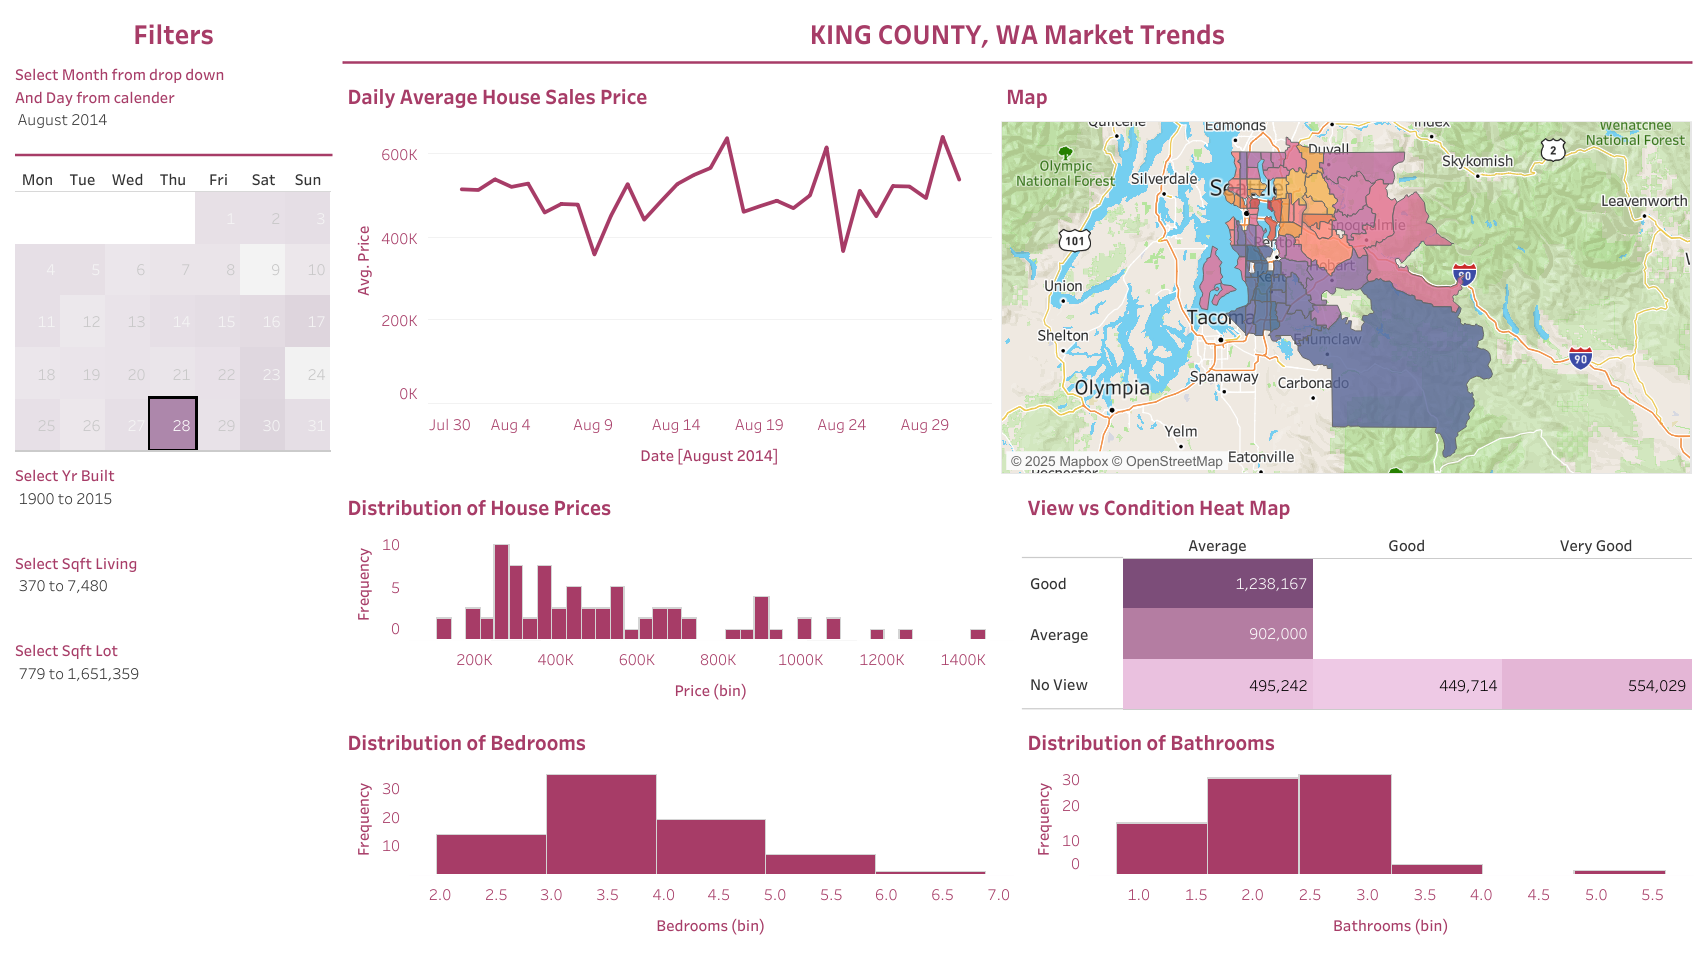

The page's visual inventory and layout, read from the dashboard file:
{"tool":"tableau","page":{"name":"KING County Sales","canvas":[1000,1000],"units":"permille","ordinal":0},"visuals":[{"type":"text","box":[4.8,10,192.5,56.2]},{"type":"text","box":[197.3,10,797.8,56.2]},{"type":"filter","title":"Calender","param":"[federated.0v26u7e0zxfn2i1db6jkp0sjat7w].[my:date:ok]","box":[4.8,66.2,192.5,102.4]},{"type":"blank","box":[197.3,66.2,797.8,12.5]},{"type":"worksheet","title":"Linechart","mark":"Automatic","rows":["price"],"cols":["date"],"box":[197.3,78.7,394.4,421.3]},{"type":"worksheet","title":"Map","mark":"Automatic","box":[591.7,78.7,403.4,421.3]},{"type":"blank","box":[4.8,168.5,192.5,12.5]},{"type":"worksheet","title":"Calender","mark":"Square","rows":["date"],"cols":["date"],"box":[4.8,181,192.5,295.9]},{"type":"filter","title":"Calender","param":"[federated.0v26u7e0zxfn2i1db6jkp0sjat7w].[none:yr_built:qk]","box":[4.8,476.9,192.5,68.7]},{"type":"worksheet","title":" House price","mark":"Automatic","rows":["price"],"cols":["Price (bin)"],"box":[197.3,500,398.9,245]},{"type":"worksheet","title":"Heat Map","mark":"Square","rows":["view"],"cols":["condition"],"box":[596.2,500,398.9,245]},{"type":"filter","title":"Calender","param":"[federated.0v26u7e0zxfn2i1db6jkp0sjat7w].[none:sqft_living:qk]","box":[4.8,545.6,192.5,68.7]},{"type":"filter","title":"Calender","param":"[federated.0v26u7e0zxfn2i1db6jkp0sjat7w].[none:sqft_lot:qk]","box":[4.8,614.2,192.5,68.7]},{"type":"worksheet","title":"Bedrooms","mark":"Automatic","rows":["bedrooms"],"cols":["Bedrooms (bin)"],"box":[197.3,745,398.9,245]},{"type":"worksheet","title":"Bathrooms","mark":"Automatic","rows":["bathrooms"],"cols":["Bathrooms (bin)"],"box":[596.2,745,398.9,245]}]}

Visuals, with their boxes on the dashboard's canvas, which has no fixed pixel size, in thousandths of its width and height (x1, y1, x2, y2). These are canvas units, not pixel positions in the 1706x959 screenshot, which may show the page scaled, cropped or inside an application window:
text: box(5, 10, 197, 66)
text: box(197, 10, 995, 66)
"Calender" filter: box(5, 66, 197, 169)
blank: box(197, 66, 995, 79)
"Linechart" worksheet: box(197, 79, 592, 500)
"Map" worksheet: box(592, 79, 995, 500)
blank: box(5, 168, 197, 181)
"Calender" worksheet (Square marks): box(5, 181, 197, 477)
"Calender" filter: box(5, 477, 197, 546)
" House price" worksheet: box(197, 500, 596, 745)
"Heat Map" worksheet (Square marks): box(596, 500, 995, 745)
"Calender" filter: box(5, 546, 197, 614)
"Calender" filter: box(5, 614, 197, 683)
"Bedrooms" worksheet: box(197, 745, 596, 990)
"Bathrooms" worksheet: box(596, 745, 995, 990)
